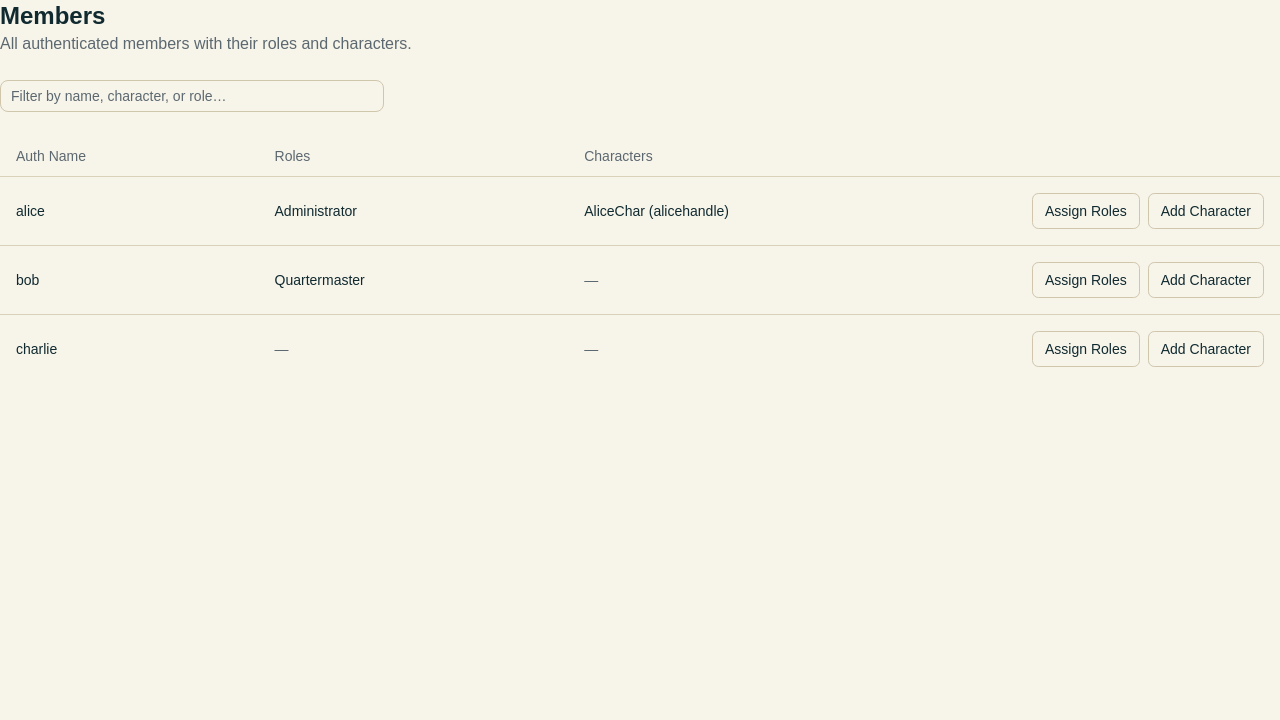
Test case: AdminUsersPage — Add Character dialog › shows inline error for blank handle before any fetch
Expected: the text "alice" is shown, [0,176,258,245]
Click the button "Add Character" in the row of "Administrator".
click(1206, 210)  # box [1148,192,1264,228]
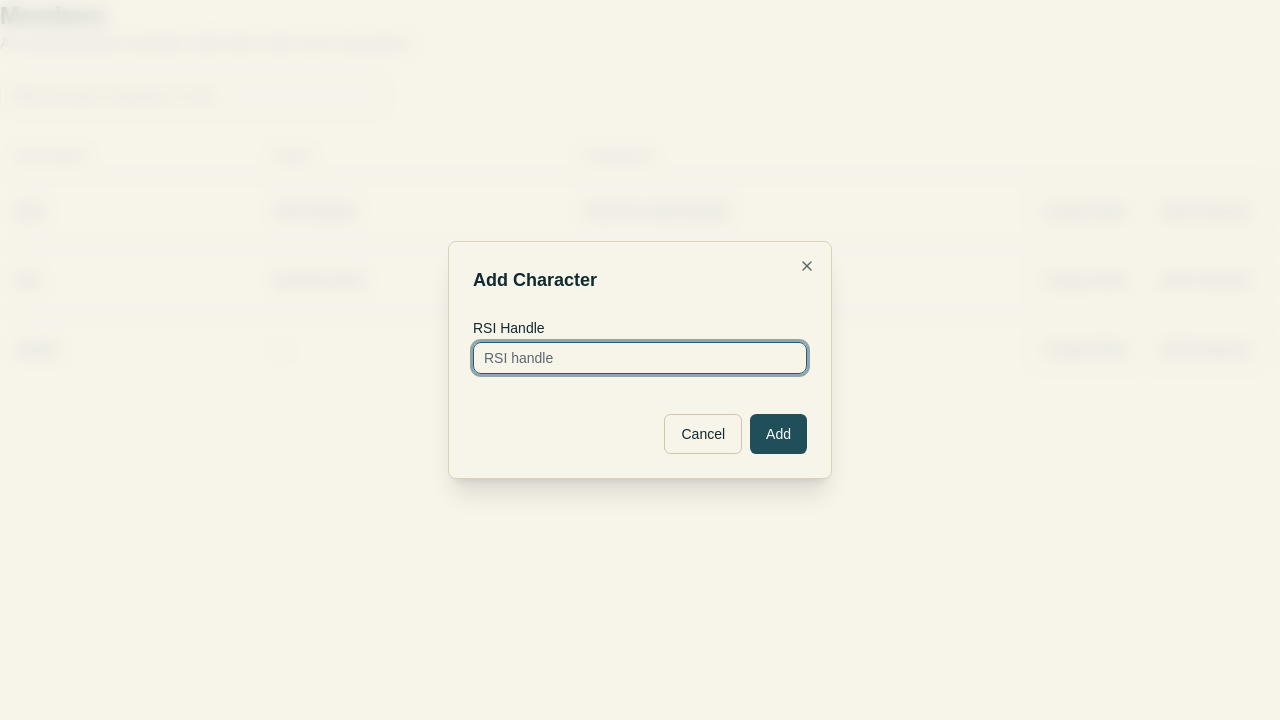
Click the button "Add".
click(779, 434)  # box [750,414,807,454]
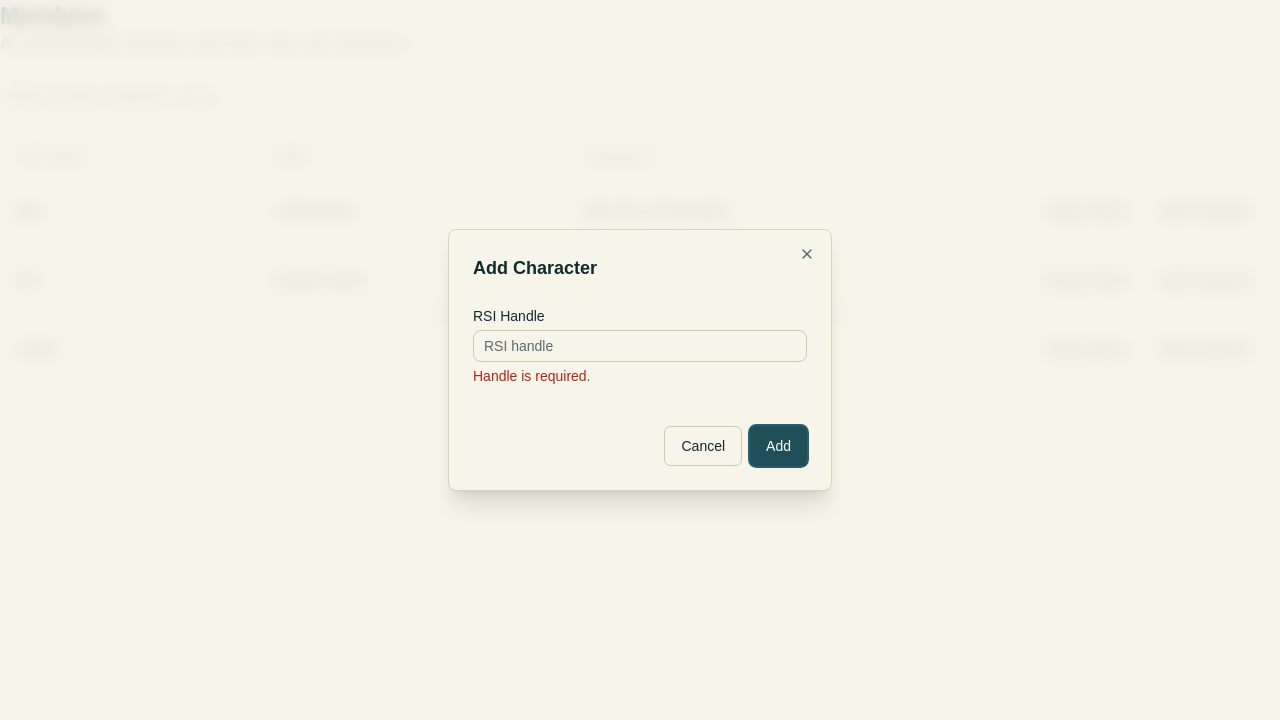
Now the text "Handle is required." is shown, box [473,368,590,384]
